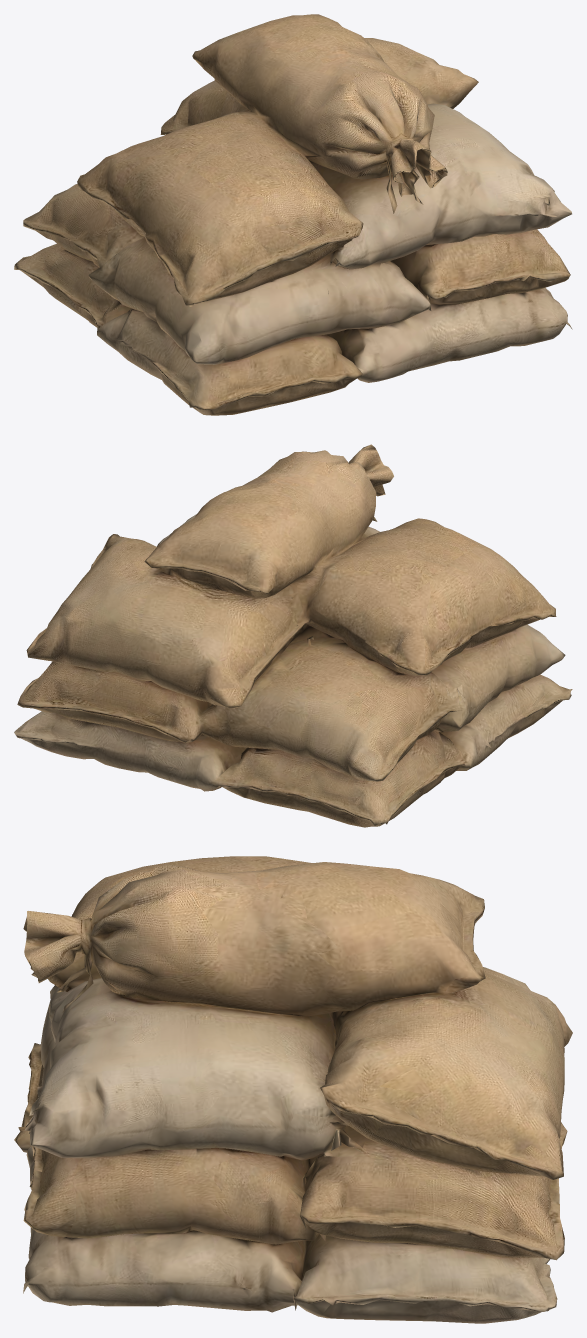
File: sacks_stack.glb
The picture shows the model from 3 angles, top to bottom: view 1: azimuth 30°, elevation 25°; view 2: azimuth 150°, elevation 25°; view 3: azimuth 270°, elevation 25°; orthographic projection. The views are drawn at different scales.
Visible parts, largest first — view 1: tripo_node_42ace167-62cb-43c1-801f-ac5c583e93c9; view 2: tripo_node_42ace167-62cb-43c1-801f-ac5c583e93c9; view 3: tripo_node_42ace167-62cb-43c1-801f-ac5c583e93c9.
Boxes of the visible parts, box(x1,y1,x2,y2) form: tripo_node_42ace167-62cb-43c1-801f-ac5c583e93c9: box(14, 14, 572, 415); tripo_node_42ace167-62cb-43c1-801f-ac5c583e93c9: box(14, 444, 572, 827); tripo_node_42ace167-62cb-43c1-801f-ac5c583e93c9: box(14, 856, 572, 1323).
Bounding box in the file's own units: 1 × 0.609 × 0.8934.
Materials: 1 (1 with a texture image).
